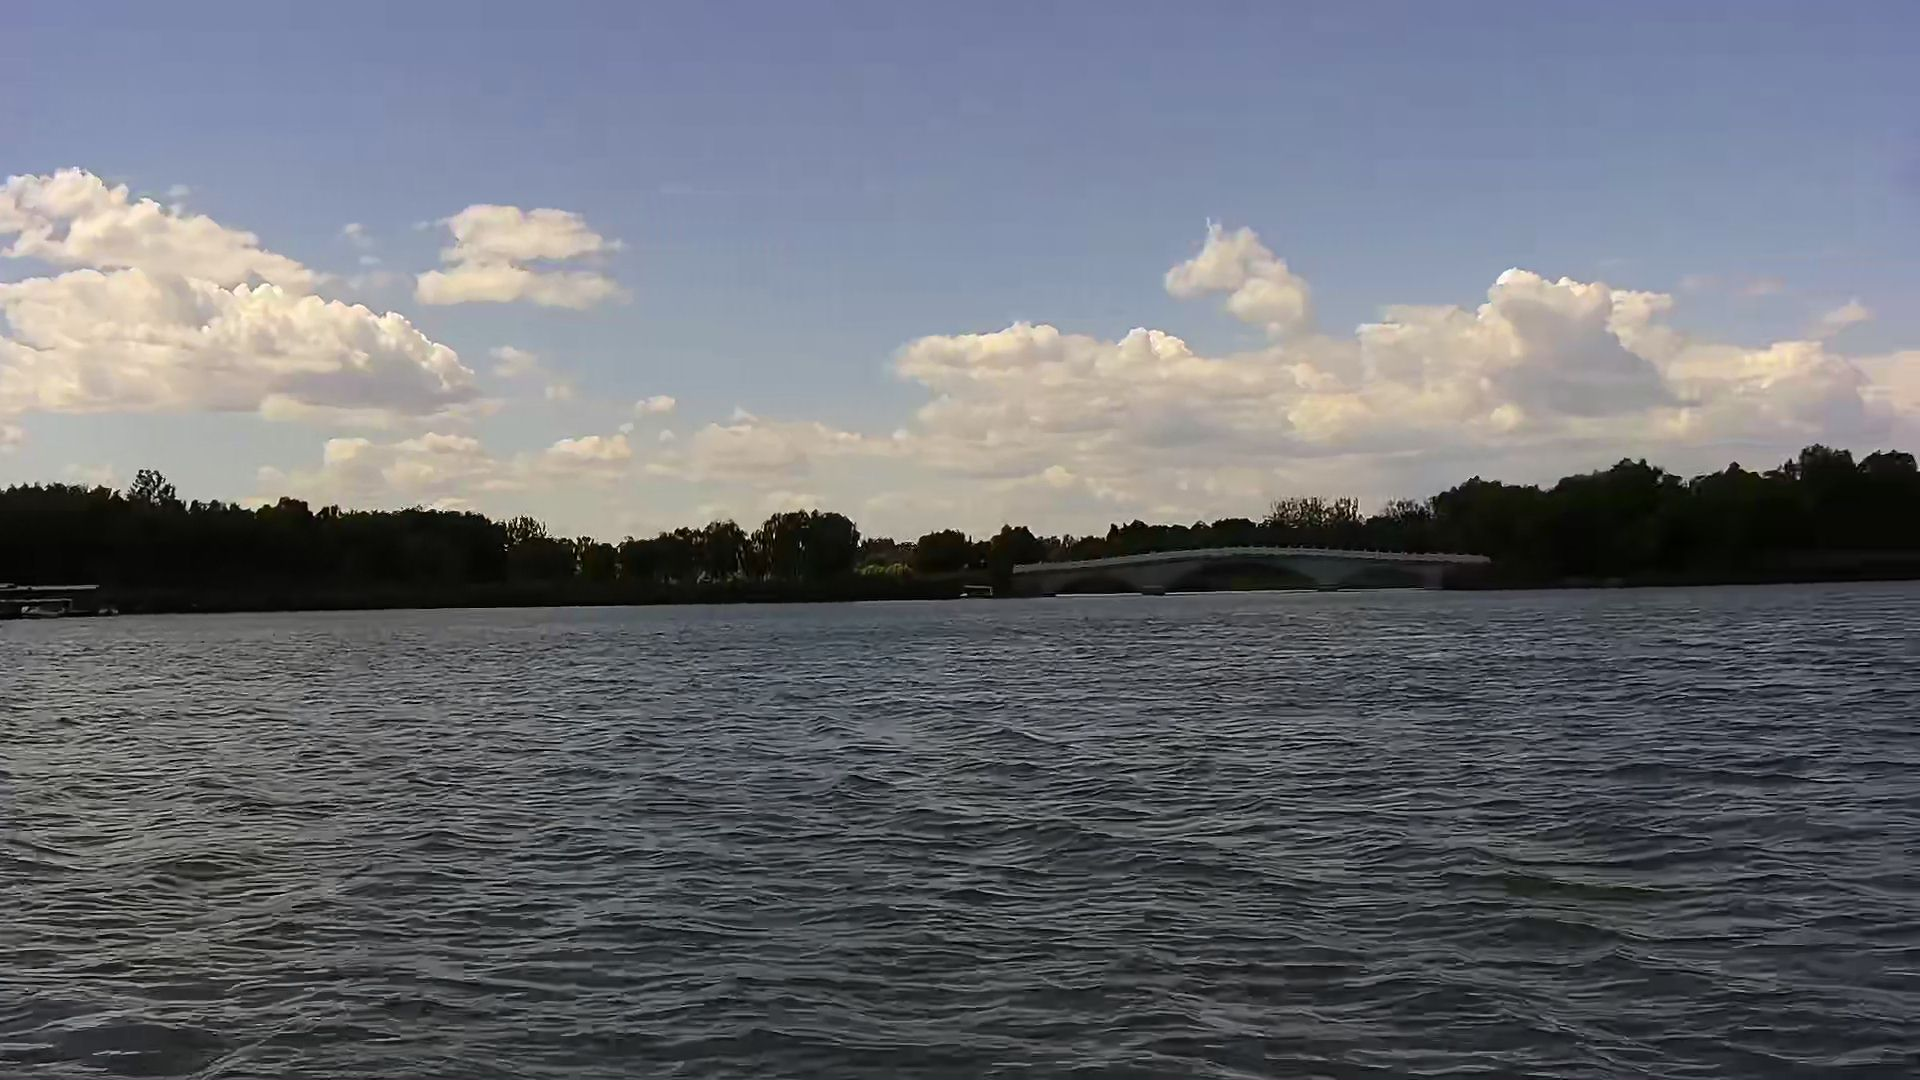bridge: (1015, 551, 1490, 593)
harbor: (1, 574, 116, 618)
